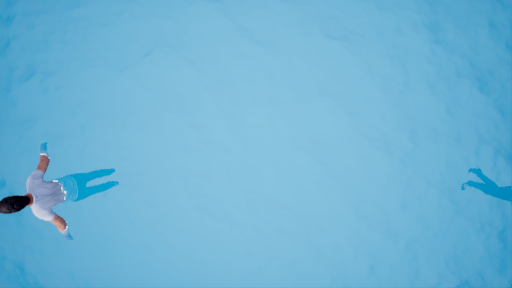person: (4, 147, 132, 234)
